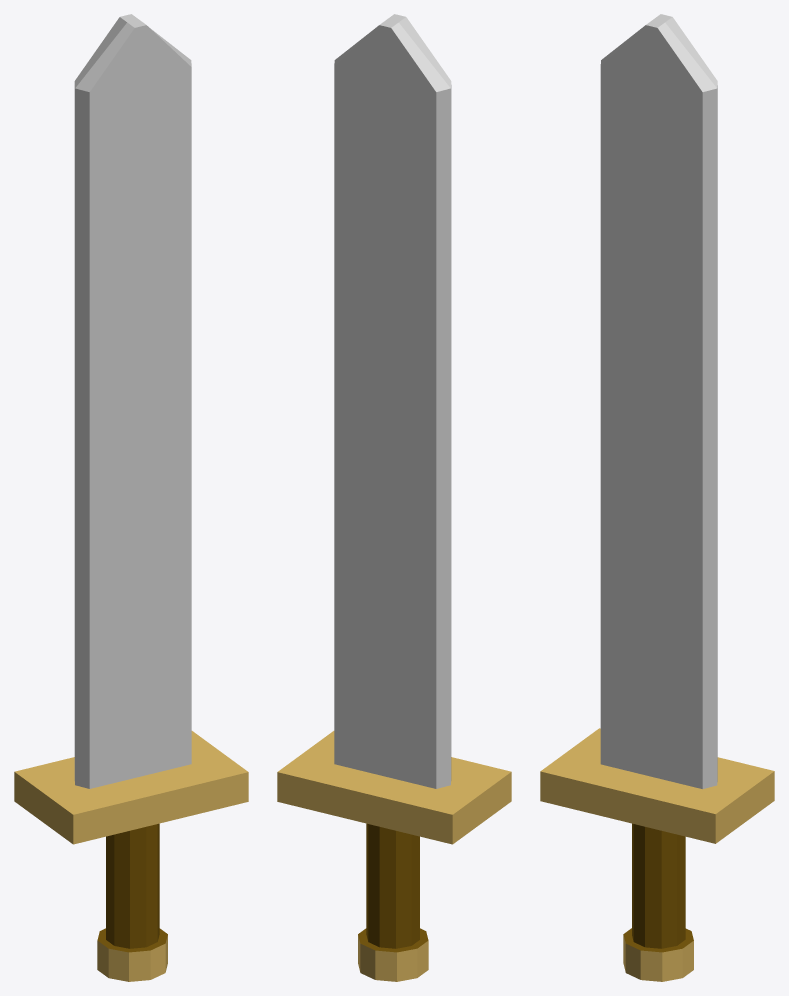
The model's file is espada_basica_modelo_1.fbx.
3 renders of one model, left to right at view 1: azimuth 30°, elevation 25°; view 2: azimuth 150°, elevation 25°; view 3: azimuth 330°, elevation 25°, orthographic.
Parts seen in each view (by area): view 1: Cube, Cube.001, Cylinder; view 2: Cube, Cube.001, Cylinder; view 3: Cube, Cube.001, Cylinder.
Part boxes in pixels (box(x1,y1,x2,y2)): Cube: box(74, 14, 191, 788); Cube.001: box(14, 731, 248, 844); Cylinder: box(97, 823, 167, 981); Cube: box(334, 14, 451, 788); Cube.001: box(277, 731, 511, 844); Cylinder: box(358, 823, 428, 981); Cube: box(600, 14, 717, 789); Cube.001: box(540, 728, 774, 843); Cylinder: box(623, 823, 693, 981).
Bounding box in the file's own units: 343 × 1770 × 200.
